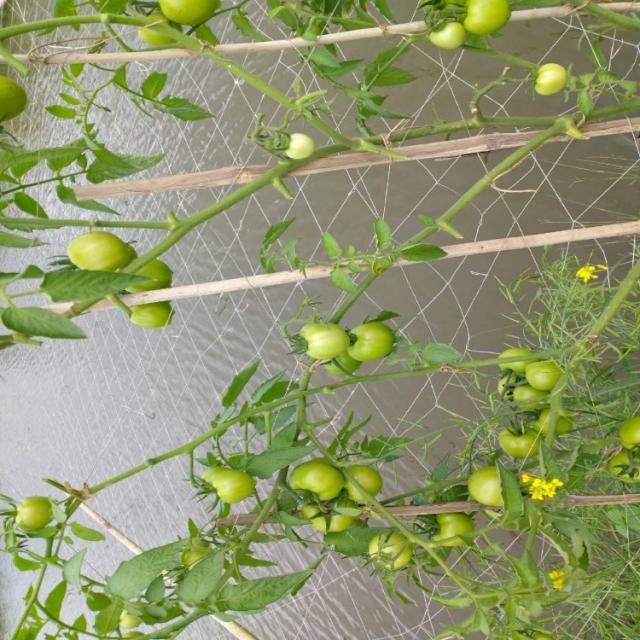tomato: (68, 232, 139, 271), (425, 507, 485, 553), (199, 464, 263, 506), (301, 495, 361, 538), (465, 463, 517, 511), (290, 457, 343, 504), (366, 531, 419, 574), (344, 461, 389, 508), (347, 323, 397, 364), (462, 3, 514, 41), (133, 253, 175, 299), (496, 374, 551, 409), (20, 495, 64, 537), (533, 58, 574, 102), (158, 1, 224, 28), (1, 69, 29, 131), (297, 323, 345, 358), (605, 444, 640, 489), (496, 421, 539, 457), (278, 130, 319, 165), (133, 304, 178, 335), (428, 22, 466, 55), (523, 362, 564, 390), (501, 345, 539, 372), (534, 413, 576, 437), (326, 353, 366, 378), (134, 27, 171, 50), (120, 601, 150, 628), (617, 420, 640, 453)
